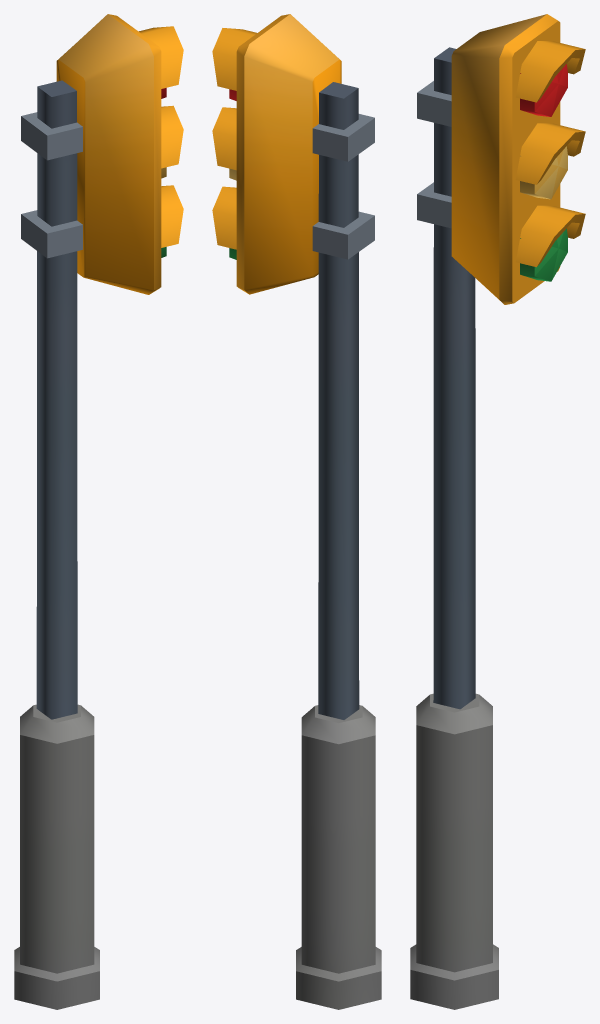
The model's file is Lights_4_A.fbx.
3 renders of one model, left to right at view 1: azimuth 30°, elevation 25°; view 2: azimuth 150°, elevation 25°; view 3: azimuth 330°, elevation 25°, orthographic. The views are drawn at different scales.
Parts seen in each view (by area): view 1: Lights_4_A; view 2: Lights_4_A; view 3: Lights_4_A.
Part boxes in pixels (box(x1,y1,x2,y2)): Lights_4_A: box(14, 14, 183, 1009); Lights_4_A: box(212, 14, 381, 1009); Lights_4_A: box(410, 14, 585, 1009).
Bounding box in the file's own units: 59.13 × 334 × 33.02.
